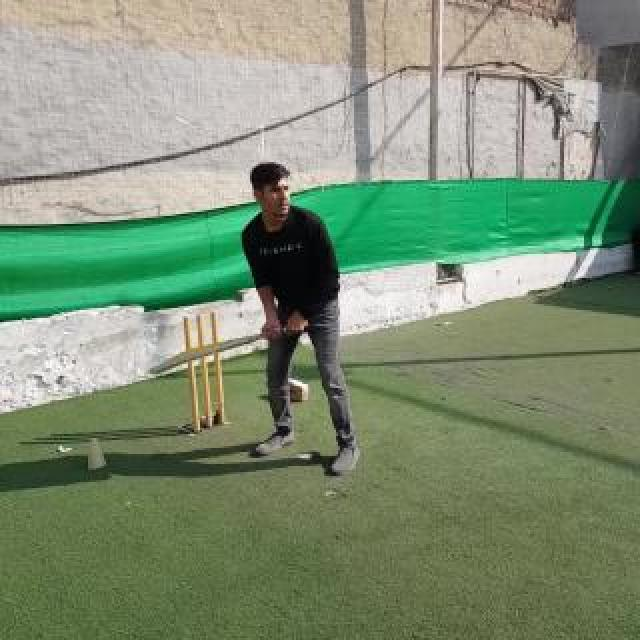bat: (150, 320, 308, 374)
